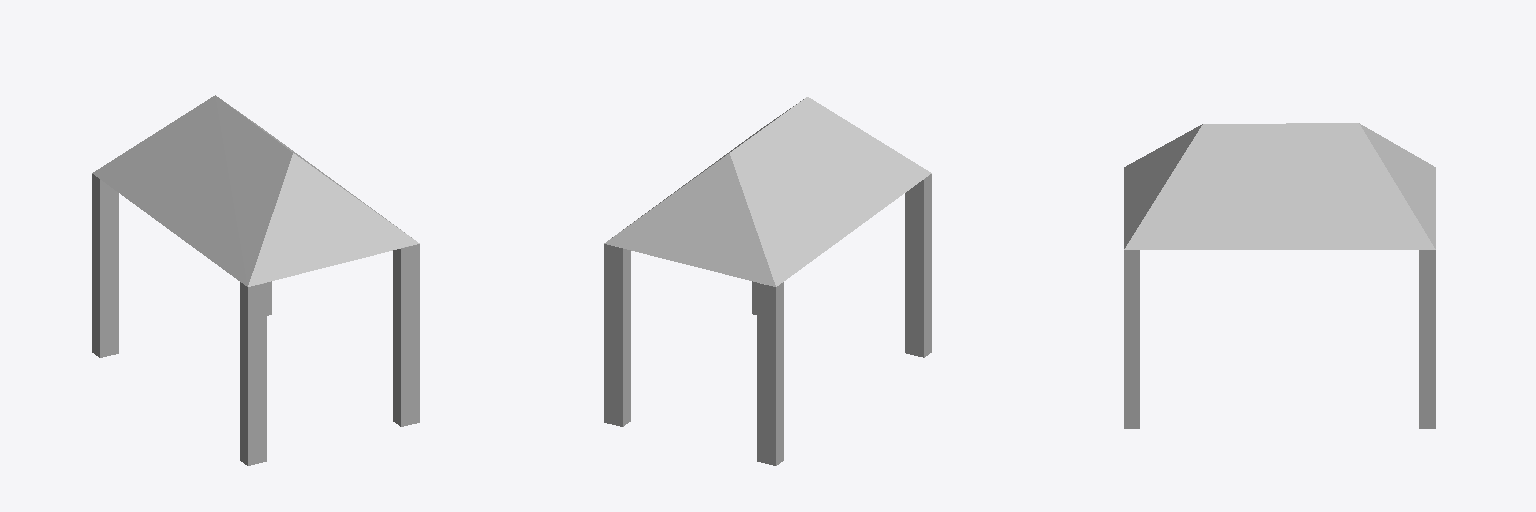
Rendered from canopy.obj.
3 views of the same model, side by side, from view 1: azimuth 30°, elevation 25°; view 2: azimuth 150°, elevation 25°; view 3: azimuth 270°, elevation 25° (orthographic).
Visible parts, largest first — view 1: Cube.006; view 2: Cube.006; view 3: Cube.006.
Part boxes in pixels (x1,y1,x2,y2): Cube.006: (92,95,419,465); Cube.006: (604,97,931,465); Cube.006: (1124,123,1435,428).
Bounding box in the file's own units: 2.53 × 3.71 × 3.96.